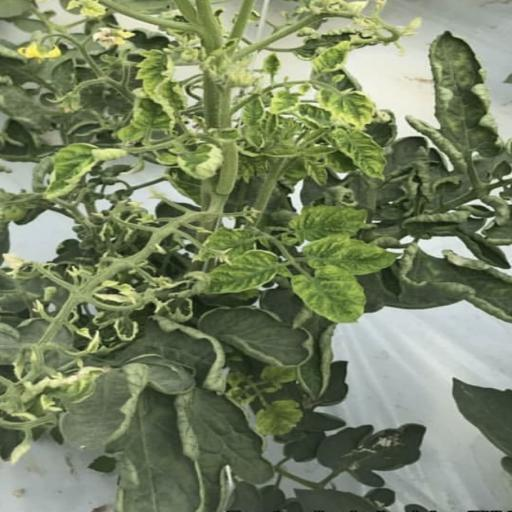Yellow Leaf Curl Virus: (290, 262, 370, 324), (299, 234, 401, 276), (204, 248, 280, 295), (289, 202, 369, 242), (333, 124, 387, 182), (318, 85, 376, 129)
